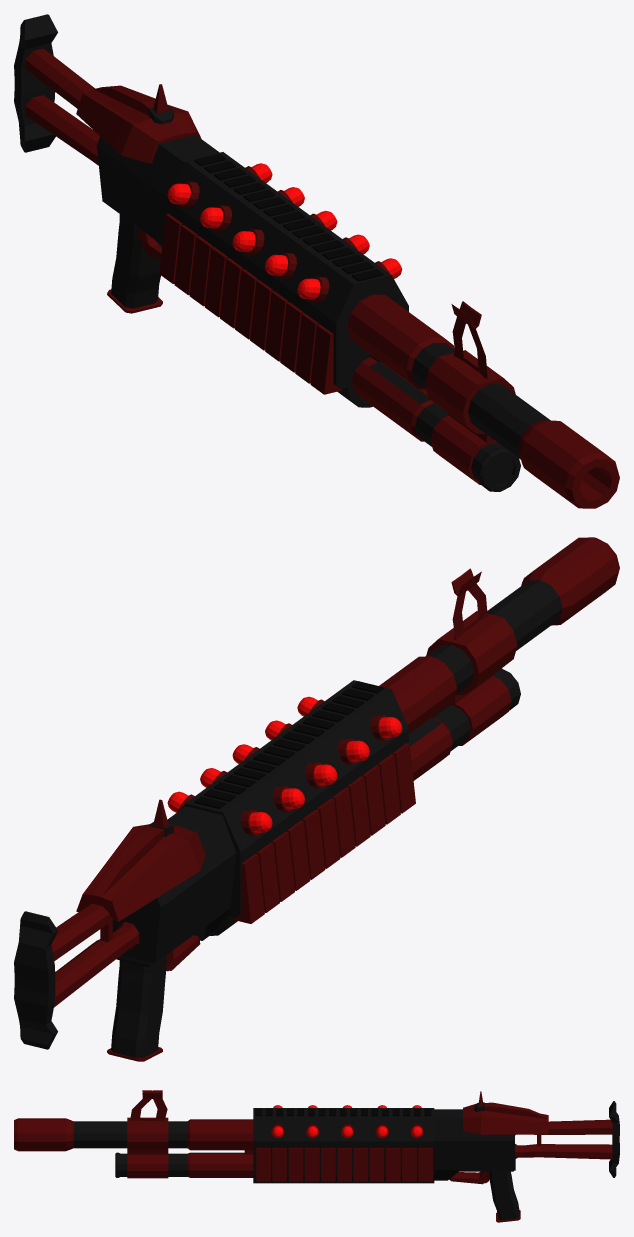
Rendered from Minigun.fbx.
3 renders of one model, top to bottom at view 1: azimuth 30°, elevation 25°; view 2: azimuth 150°, elevation 25°; view 3: azimuth 270°, elevation 25°, orthographic. The views are drawn at different scales.
Parts seen in each view (by area): view 1: Minigun; view 2: Minigun; view 3: Minigun.
Boxes of the visible parts, x1=… form: Minigun: x1=14, y1=14, x2=619, y2=508; Minigun: x1=14, y1=537, x2=619, y2=1061; Minigun: x1=14, y1=1090, x2=619, y2=1222.
Bounding box in the file's own units: 14.73 × 32.76 × 142.
